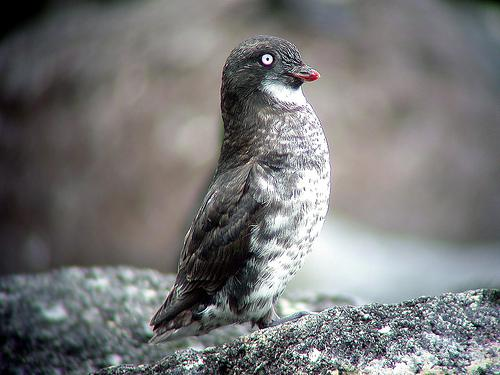006.Least_Auklet: (145, 36, 333, 342)
